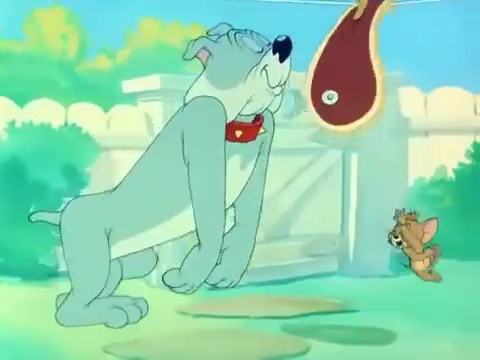spike: (181, 19, 296, 147)
